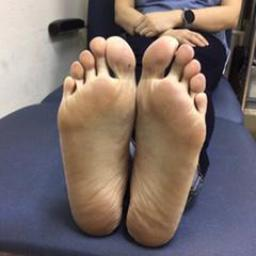Plantar View -Both Feet-: (52, 31, 214, 251)
